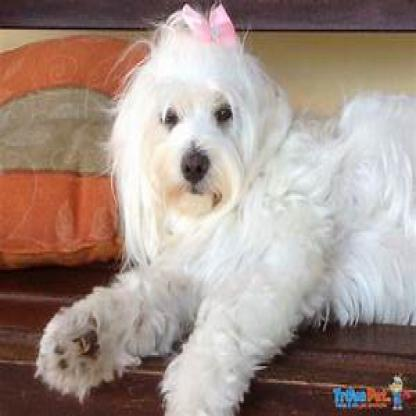dog: (36, 6, 415, 414)
